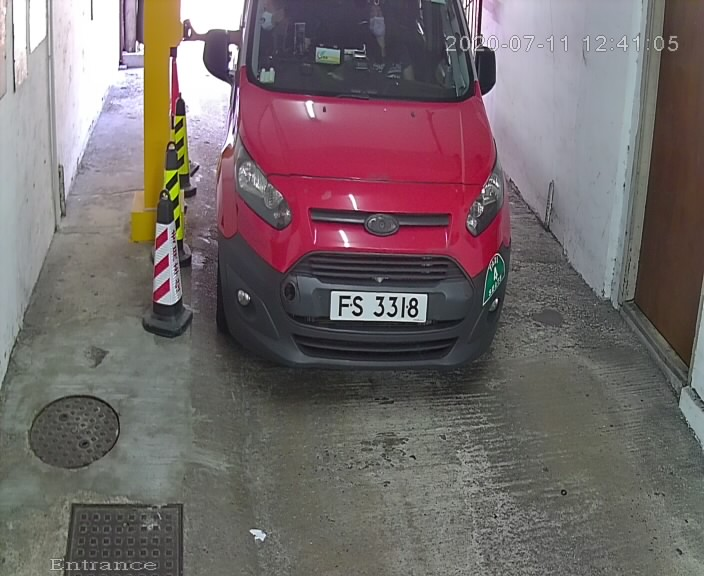taxi: (191, 1, 540, 393)
taxi_mark: (474, 247, 513, 305)
